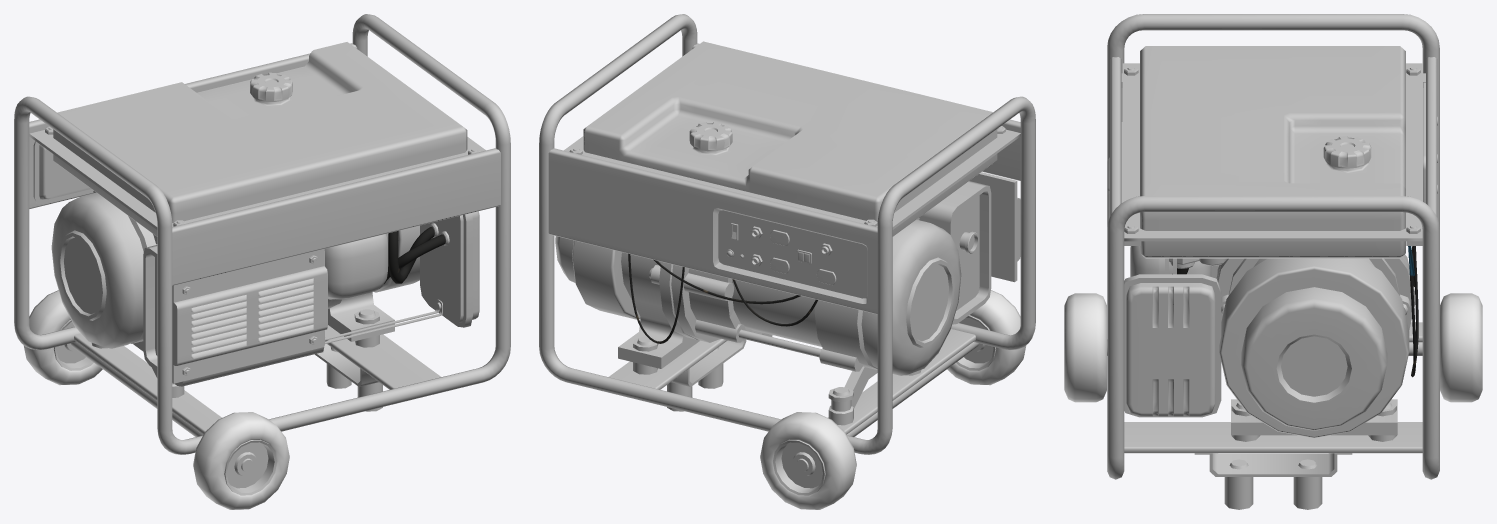
The model's file is KB3D_DMZ_Generator_B.fbx.
The picture shows the model from 3 angles, left to right: view 1: azimuth 30°, elevation 25°; view 2: azimuth 150°, elevation 25°; view 3: azimuth 270°, elevation 25°; orthographic projection. The views are drawn at different scales.
Parts seen in each view (by area): view 1: KB3D_DMZ_Generator_B_Main; view 2: KB3D_DMZ_Generator_B_Main; view 3: KB3D_DMZ_Generator_B_Main.
Boxes of the visible parts, bbox=[...] form: KB3D_DMZ_Generator_B_Main: bbox=[14, 14, 510, 509]; KB3D_DMZ_Generator_B_Main: bbox=[539, 14, 1035, 509]; KB3D_DMZ_Generator_B_Main: bbox=[1064, 14, 1482, 509].
Bounding box in the file's own units: 79.7 × 67.13 × 72.91.
